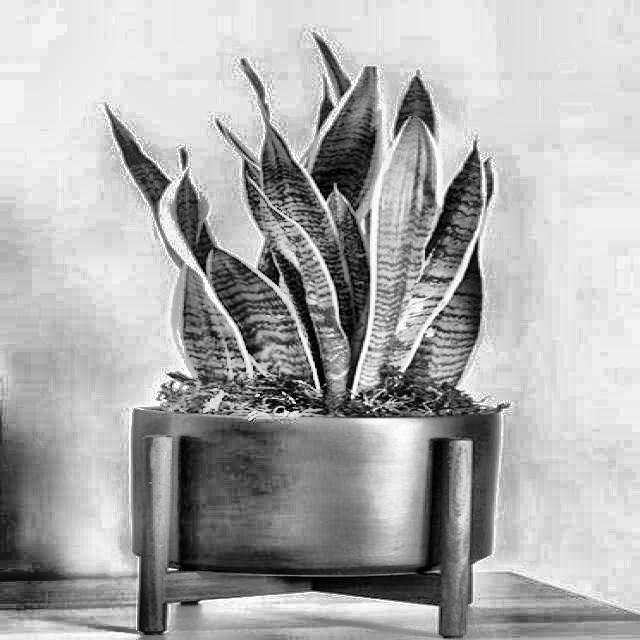plants: (70, 37, 540, 612)
